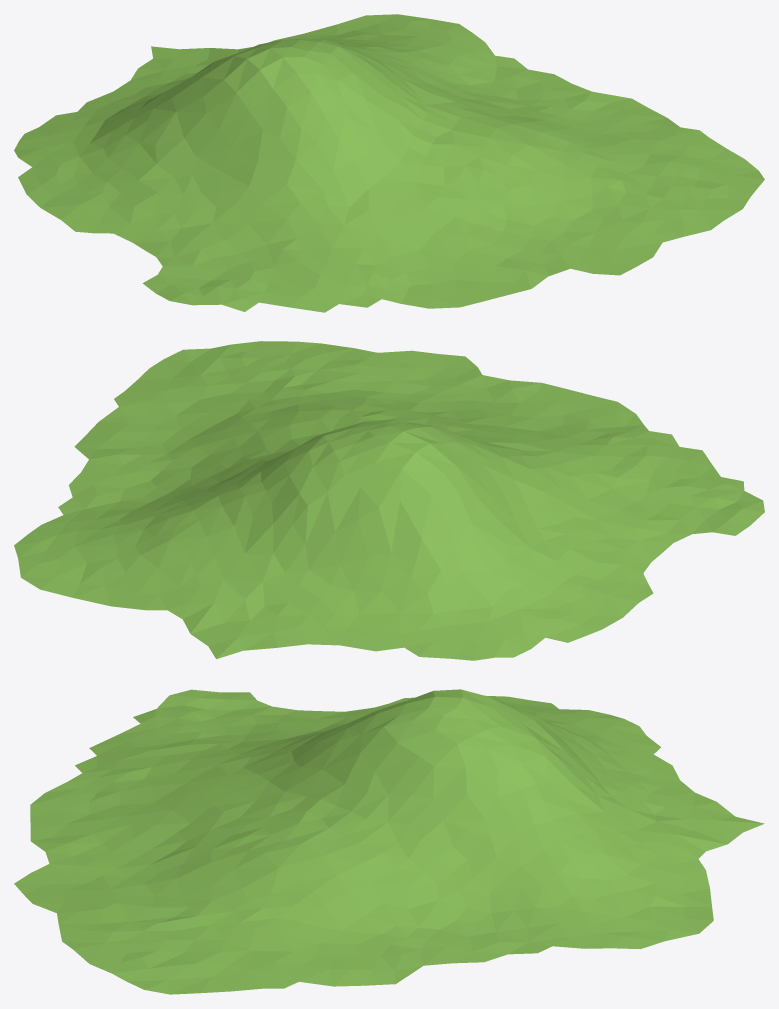
Rendered from MT_Mountain_L_a_05.fbx.
The picture shows the model from 3 angles, top to bottom: view 1: azimuth 30°, elevation 25°; view 2: azimuth 150°, elevation 25°; view 3: azimuth 270°, elevation 25°; orthographic projection. The views are drawn at different scales.
Visible parts, largest first — view 1: MT_Mountain_L_a_05; view 2: MT_Mountain_L_a_05; view 3: MT_Mountain_L_a_05.
Boxes of the visible parts, left/top/right/bottom form: MT_Mountain_L_a_05: left=14, top=14, right=764, bottom=312; MT_Mountain_L_a_05: left=14, top=341, right=764, bottom=660; MT_Mountain_L_a_05: left=14, top=689, right=764, bottom=994.
Bounding box in the file's own units: 7573 × 1371 × 7982.
